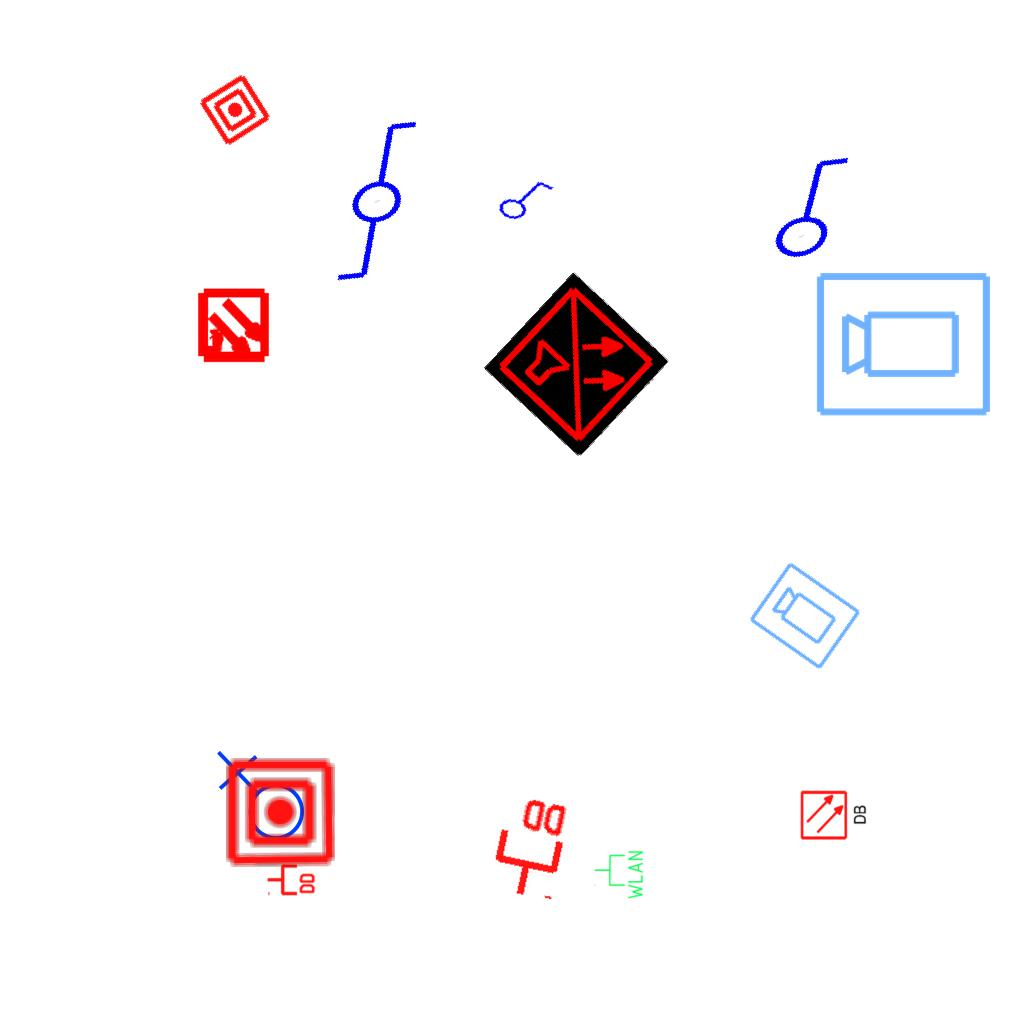Ausschalter: (739, 141, 879, 271), (491, 169, 557, 227)
DB_Melder_in_Doppelboden_mit_Revisionsoeffnung_mind_40_x_40_cm: (797, 786, 871, 843)
Datenanschluss_zweifach: (484, 788, 573, 905), (266, 862, 317, 896)
Elektroanschluss_allgemein_230V_Geraeteanschlussdose_230V: (212, 750, 306, 849)
KFO_Kamera_mit_Festobjektiv: (813, 266, 995, 420), (746, 557, 865, 674)
NAM-Nichtautomatischer_Melder: (224, 756, 337, 869), (196, 71, 274, 149)
OKW_Multisensormelder_(Kombination_optischer_Rauch-Kahlenmonoxid_Waerme-Melder): (483, 271, 671, 459)
OT_Multisensormelder_(Kombination_RMO_WMD): (177, 271, 290, 384)
WLAN: (593, 849, 645, 901)
Wechselschalter: (268, 106, 469, 300)
